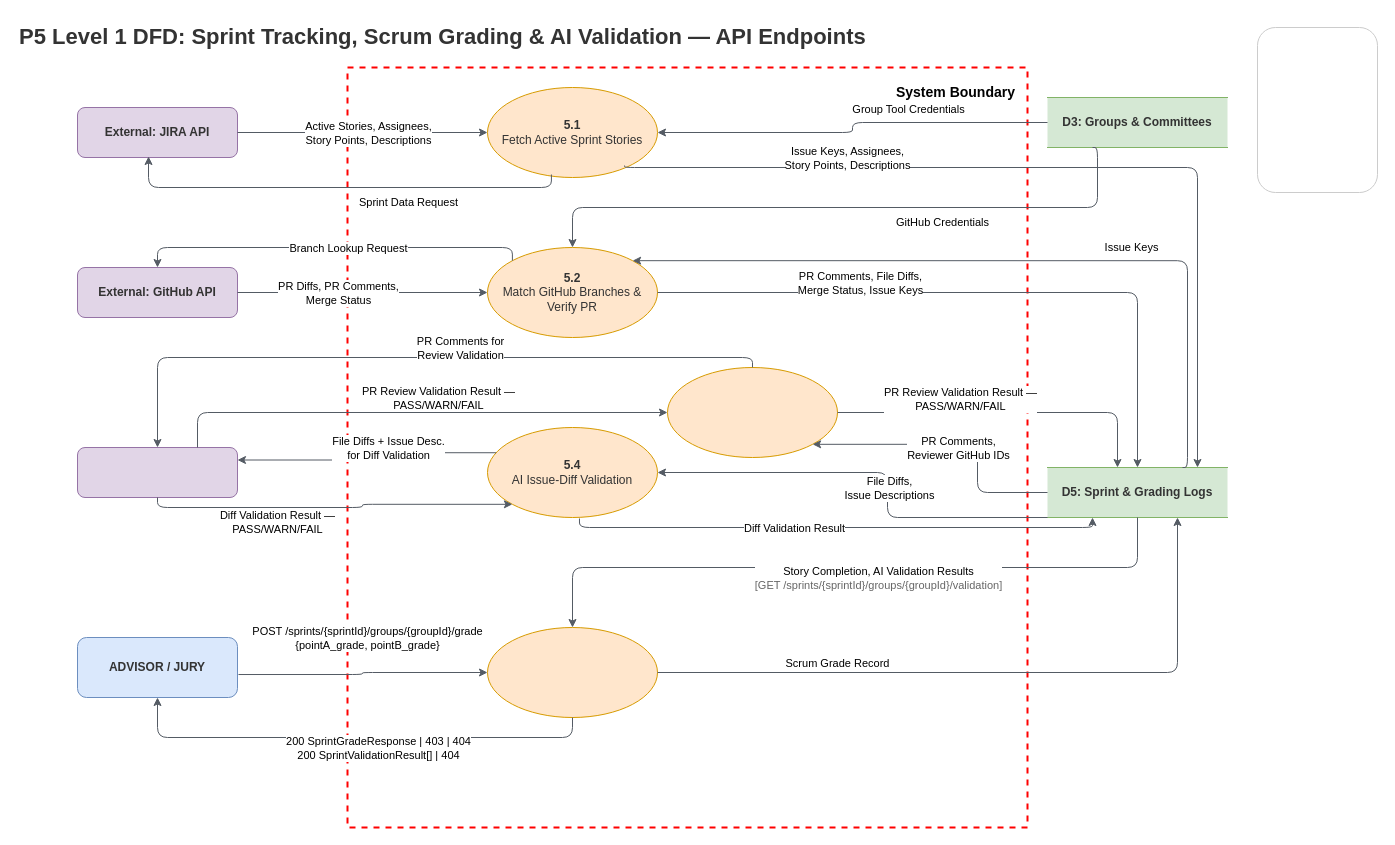
This 1395x845 diagram has some shape labels left out. Here are the shapes that lost their labels. From the top down, the centre of each, then its label:
(x=1317, y=109): Legend External Actors Sub-Processes Data Stores External APIs
(x=752, y=412): 5.3 AI PR Review Validation
(x=157, y=472): External: AI Service
(x=572, y=672): 5.5 Advisor Scrum Grading (Point A & B)
